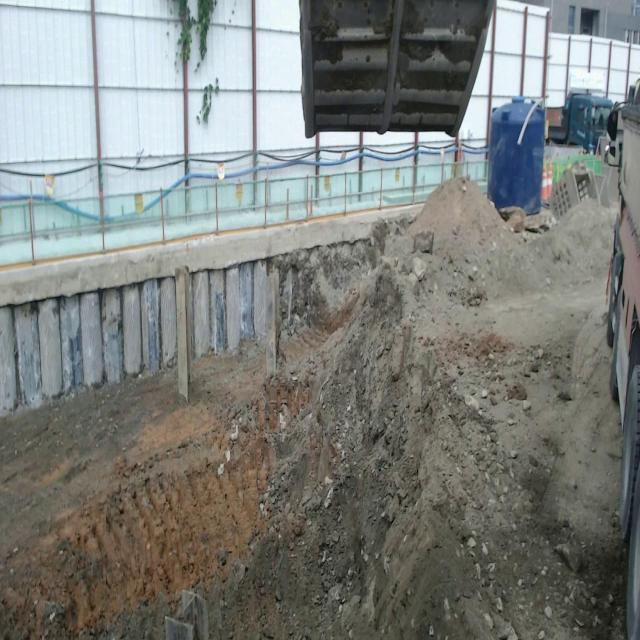red-sand: (0, 180, 629, 639)
